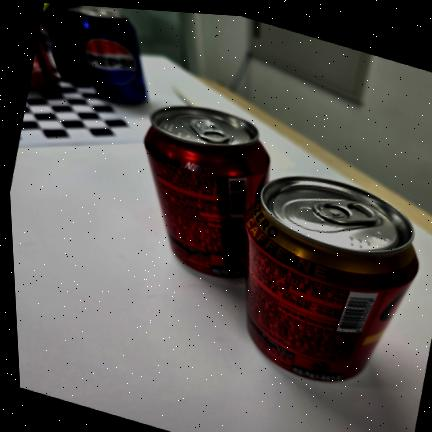can_coke_decaf: (244, 177, 418, 381)
can_coke_zero: (145, 107, 269, 277), (29, 33, 57, 91)
can_pepsi: (77, 8, 146, 104)
can_pepsi_zero: (42, 3, 92, 84)
